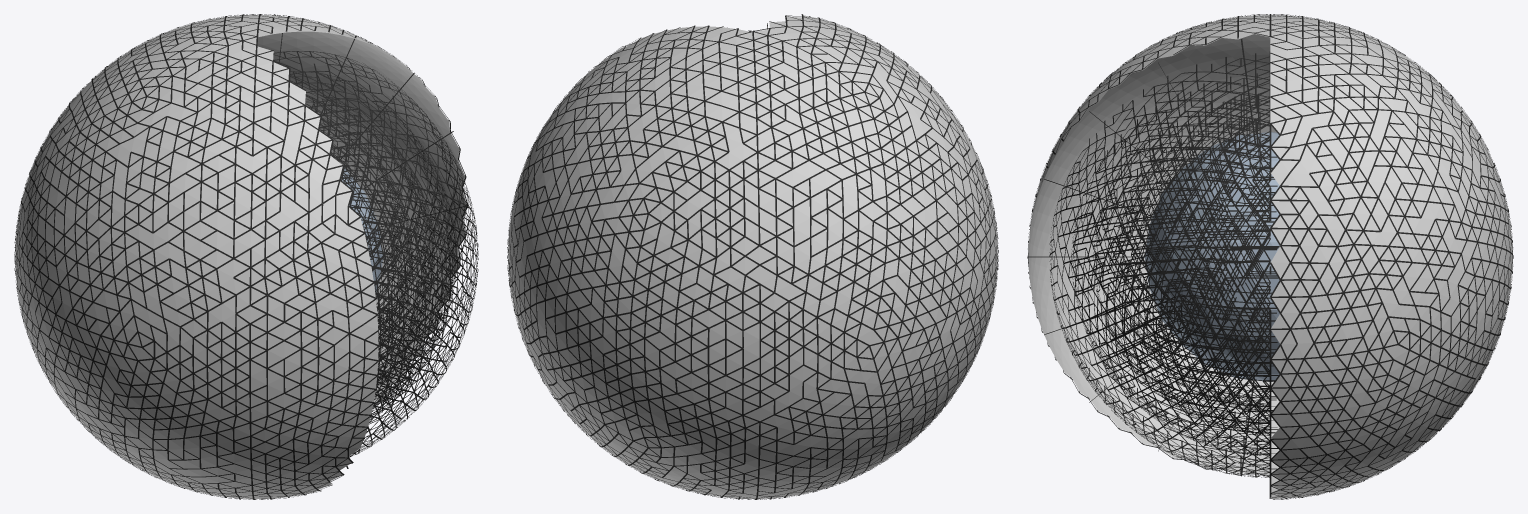
The model's file is ICON_icosahedral_grid_3D_cutaway.glb.
The picture shows the model from 3 angles, left to right: view 1: azimuth 30°, elevation 25°; view 2: azimuth 150°, elevation 25°; view 3: azimuth 270°, elevation 25°; orthographic projection.
Size of the model in its own units: 1 by 1 by 1.
